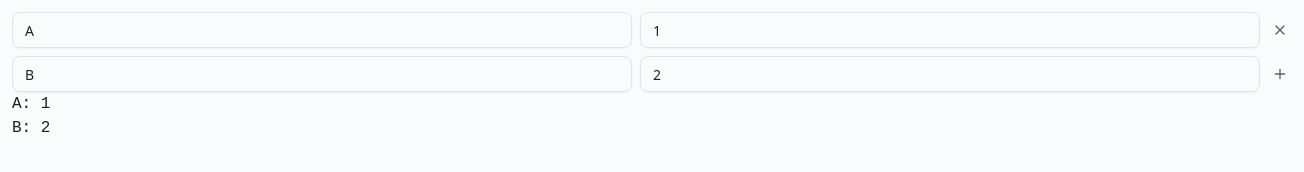
Test: name and value rows › takes a row away
The image size is (1304, 172).
Click the button named "Remove".
click(1280, 30)  # box [1268,18,1292,42]
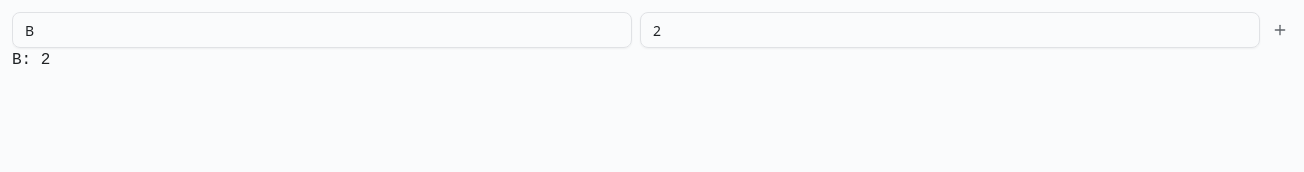
Now the text with test id "stored" reads "B: 2", box [12,51,50,69]
Now the number of fields named "Name" is 1, box [12,12,632,48]
